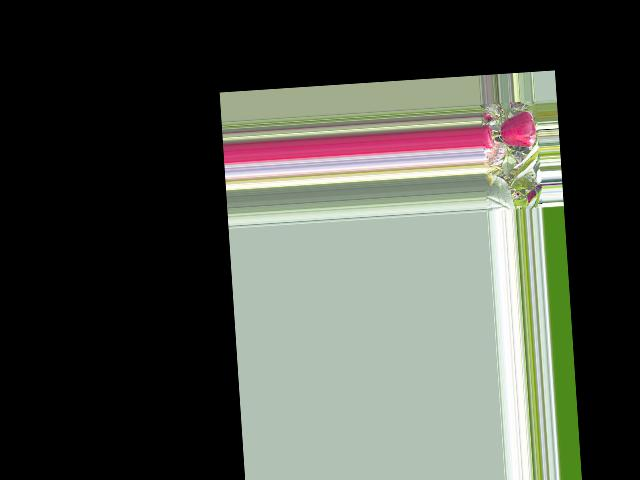bell_pepper: (480, 122, 497, 151)
